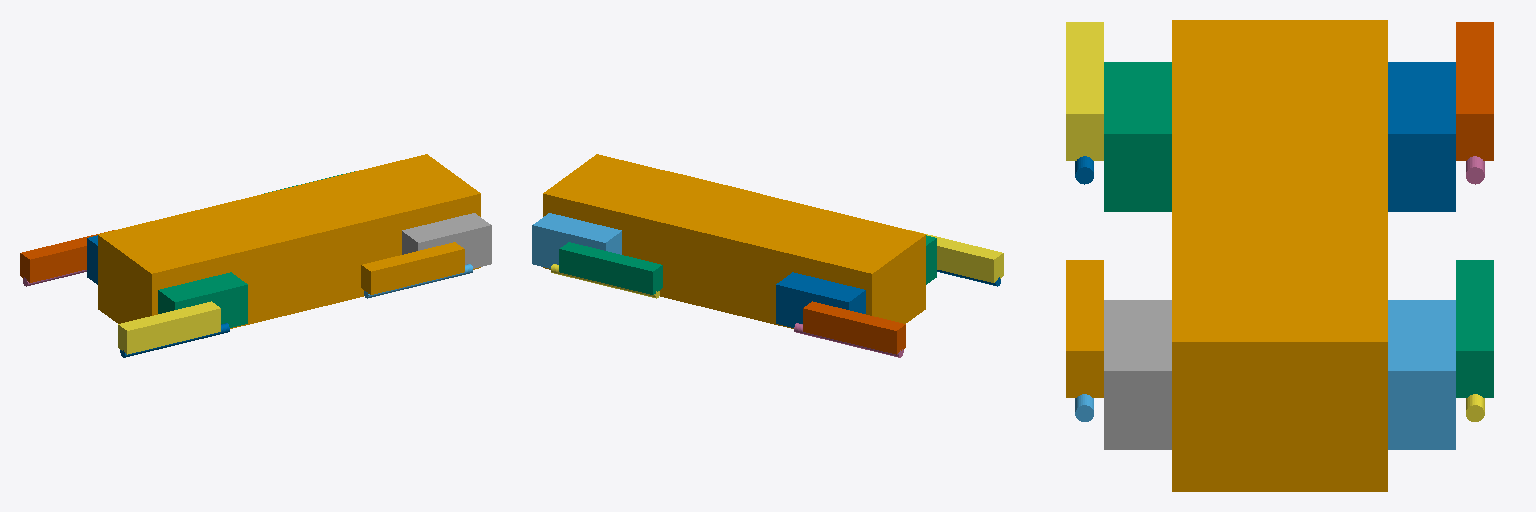
--- Render facts (derived) ---
The picture shows the robot from 3 angles, left to right: view 1: azimuth 30°, elevation 25°; view 2: azimuth 150°, elevation 25°; view 3: azimuth 270°, elevation 25°; orthographic projection.
Model vision60 with 13 links and 12 joints (12 revolute), rooted at body, posed all joints at 0.
Links seen in each view (by area): view 1: body, upper2, upper3, hip2, hip3, upper1; view 2: body, upper0, upper1, hip0, hip1, upper3; view 3: body, hip0, hip1, hip2, hip3, upper1, upper3, upper0, upper2.
Link boxes in pixels (box(x1,y1,x2,y2)): body: box(98, 154, 480, 328); upper2: box(361, 242, 464, 294); upper3: box(118, 301, 220, 354); hip2: box(402, 213, 491, 268); hip3: box(158, 272, 247, 327); upper1: box(20, 230, 113, 282); body: box(543, 154, 925, 328); upper0: box(559, 242, 662, 294); upper1: box(803, 301, 905, 354); hip0: box(532, 213, 621, 268); hip1: box(776, 272, 865, 327); upper3: box(910, 230, 1003, 282); body: box(1172, 20, 1387, 491); hip0: box(1388, 300, 1455, 449); hip1: box(1388, 62, 1455, 211); hip2: box(1104, 300, 1171, 449); hip3: box(1104, 62, 1171, 211); upper1: box(1456, 22, 1493, 160); upper3: box(1066, 22, 1103, 160); upper0: box(1456, 260, 1493, 397); upper2: box(1066, 260, 1103, 397).
Size in the robot's own frame: 1.01 by 0.495 by 0.19 metres.
Geometry: primitives only (box / cylinder / sphere), no mesh files.

The robot description file, URDF, robot "vision60":
<?xml version="1.0" ?>
<!-- =================================================================================== -->
<!-- |    This document was autogenerated by xacro from vision_60.urdf.xacro           | -->
<!-- |    EDITING THIS FILE BY HAND IS NOT RECOMMENDED                                 | -->
<!-- =================================================================================== -->
<!-- 
MIT License (modified)
Copyright (c) 2018 Ghost Robotics
Authors:
Avik De <[email redacted]>
Tom Jacobs <[email redacted]>
Vasileios Vasilopoulos <[email redacted]>
Permission is hereby granted, free of charge, to any person obtaining a copy
of this **file** (the "Software"), to deal
in the Software without restriction, including without limitation the rights
to use, copy, modify, merge, publish, distribute, sublicense, and/or sell
copies of the Software, and to permit persons to whom the Software is
furnished to do so, subject to the following conditions:
The above copyright notice and this permission notice shall be included in all
copies or substantial portions of the Software.
THE SOFTWARE IS PROVIDED "AS IS", WITHOUT WARRANTY OF ANY KIND, EXPRESS OR
IMPLIED, INCLUDING BUT NOT LIMITED TO THE WARRANTIES OF MERCHANTABILITY,
FITNESS FOR A PARTICULAR PURPOSE AND NONINFRINGEMENT. IN NO EVENT SHALL THE
AUTHORS OR COPYRIGHT HOLDERS BE LIABLE FOR ANY CLAIM, DAMAGES OR OTHER
LIABILITY, WHETHER IN AN ACTION OF CONTRACT, TORT OR OTHERWISE, ARISING FROM,
OUT OF OR IN CONNECTION WITH THE SOFTWARE OR THE USE OR OTHER DEALINGS IN THE
SOFTWARE. 
-->
<robot name="vision60">
  <!-- Body -->
  <link name="body">
    <visual>
      <origin rpy="0 0 0" xyz="0 0 0"/>
      <geometry>
        <box size="0.88 0.25 0.19"/>
      </geometry>
    </visual>
    <inertial>
      <mass value="12"/>
      <!-- Uniform box -->
      <inertia ixx="0.0986" ixy="0" ixz="0" iyy="0.8105" iyz="0" izz="0.8369"/>
    </inertial>
    <!-- Just copy geometry for collision -->
    <collision>
      <geometry>
        <box size="0.05 0.25 0.19"/>
      </geometry>
    </collision>
  </link>
  <gazebo reference="body">
    <material>Gazebo/BlackTransparent</material>
  </gazebo>
  <!-- red new legs -->
  <!-- TODO: clean this, it should be part of main leg macro -->
  <!-- Hip motor -->
  <link name="hip0">
    <visual>
      <origin rpy="1.5707963267948966 0 0" xyz="0.0 -0.03900000000000001 0"/>
      <geometry>
        <box size="0.195 0.1 0.17"/>
      </geometry>
    </visual>
    <collision>
      <origin rpy="1.5707963267948966 0 0" xyz="0.0 -0.03900000000000001 0"/>
      <geometry>
        <box size="0.195 0.1 0.17"/>
      </geometry>
    </collision>
    <inertial>
      <mass value="2.75"/>
      <inertia ixx="0.00891458" ixy="0" ixz="0" iyy="0.0100573" iyz="0" izz="0.01533698"/>
    </inertial>
  </link>
  <gazebo reference="hip0">
    <material>Gazebo/Red</material>
  </gazebo>
  <!-- Abduction joint. Joint names are: 8 9 10 11 -->
  <joint name="8" type="revolute">
    <parent link="body"/>
    <child link="hip0"/>
    <axis xyz="1 0 0"/>
    <origin xyz="0.325 0.1575 0"/>
    <limit effort="375" lower="-0.43" upper="0.43" velocity="8.6"/>
    <dynamics damping="0.0" friction="0.0"/>
  </joint>
  <!-- Transmission elements required for Gazebo -->
  <transmission name="transmission_8">
    <type>transmission_interface/SimpleTransmission</type>
    <joint name="8">
      <hardwareInterface>hardware_interface/EffortJointInterface</hardwareInterface>
    </joint>
    <actuator name="motor_8">
      <hardwareInterface>EffortJointInterface</hardwareInterface>
      <mechanicalReduction>1</mechanicalReduction>
    </actuator>
  </transmission>
  <!-- Upper leg -->
  <link name="upper0">
    <visual>
      <origin rpy="0 0 0" xyz="-0.125 0.0 0"/>
      <geometry>
        <box size="0.25 0.044 0.06"/>
      </geometry>
    </visual>
    <collision>
      <origin rpy="0 0 0" xyz="-0.125 0 0"/>
      <geometry>
        <box size="0.25 0.044 0.06"/>
      </geometry>
    </collision>
    <inertial>
      <mass value="0.625"/>
      <inertia ixx="0.0003125" ixy="0" ixz="0" iyy="0.0040625" iyz="0" izz="0.0040625"/>
    </inertial>
  </link>
  <gazebo reference="upper0">
    <material>Gazebo/Blue</material>
  </gazebo>
  <!-- Hip joint. (Motor to upper leg). Joint names are: 0 2 4 6 -->
  <joint name="0" type="revolute">
    <parent link="hip0"/>
    <child link="upper0"/>
    <axis xyz="0 -1 0"/>
    <origin xyz="0 0.068 0"/>
    <!--  rpy="0 -0.3 0" -->
    <limit effort="87.5" lower="-3.141592653589793" upper="3.141592653589793" velocity="30"/>
    <dynamics damping="0.0" friction="0.0"/>
  </joint>
  <!-- Transmission elements required for Gazebo -->
  <transmission name="transmission_0">
    <type>transmission_interface/SimpleTransmission</type>
    <joint name="0">
      <hardwareInterface>hardware_interface/EffortJointInterface</hardwareInterface>
    </joint>
    <actuator name="motor_0">
      <hardwareInterface>EffortJointInterface</hardwareInterface>
      <mechanicalReduction>1</mechanicalReduction>
    </actuator>
  </transmission>
  <!-- Lower leg -->
  <link name="lower0">
    <visual>
      <origin rpy="0 1.5707963267948966 0" xyz="0.14 0 -0.0355"/>
      <geometry>
        <cylinder length="0.28" radius="0.011"/>
      </geometry>
    </visual>
    <collision>
      <origin rpy="0 1.5707963267948966 0" xyz="0.14 0 -0.0355"/>
      <geometry>
        <cylinder length="0.28" radius="0.011"/>
      </geometry>
    </collision>
    <inertial>
      <mass value="0.2"/>
      <inertia ixx="0.00131075" ixy="0" ixz="0" iyy="0.00131075" iyz="0" izz="0.0001"/>
    </inertial>
  </link>
  <gazebo reference="lower0">
    <material>Gazebo/Black</material>
  </gazebo>
  <!-- Knee joint. Joint names are: 1 3 5 7 -->
  <joint name="1" type="revolute">
    <parent link="upper0"/>
    <child link="lower0"/>
    <axis xyz="0 1 0"/>
    <origin xyz="-0.25 0 0"/>
    <!--rpy="0 0.5 0"-->
    <limit effort="87.5" lower="0" upper="3.141592653589793" velocity="30"/>
    <dynamics damping="0.0" friction="0.0"/>
  </joint>
  <!-- Transmission elements required for Gazebo -->
  <transmission name="transmission_1">
    <type>transmission_interface/SimpleTransmission</type>
    <joint name="1">
      <hardwareInterface>hardware_interface/EffortJointInterface</hardwareInterface>
    </joint>
    <actuator name="motor_1">
      <hardwareInterface>EffortJointInterface</hardwareInterface>
      <mechanicalReduction>1</mechanicalReduction>
    </actuator>
  </transmission>
  <!-- Toe 
		<link name="toe${suffix}">
			<visual>
				<origin rpy="0 0 0" xyz="0 0 0"/>
				<geometry>
					<sphere radius="${toeRadius}"/>
				</geometry>
			</visual>
			
			<collision>
				<origin rpy="0 0 0" xyz="0 0 0"/>
				<geometry>
					<sphere radius="${toeRadius}"/>
				</geometry>
			</collision>

			<inertial>
				<mass value="${toeMass}"/>
				<inertia ixx="0.000025"  ixy="0"  ixz="0" iyy="0.000025" iyz="0" izz="0.000025" />
			</inertial>
		</link>
		<gazebo reference="toe${suffix}">
    		<material>Gazebo/DarkGray</material>
			<collision>
				<surface>
					<bounce>
						<restitution_coefficient>0</restitution_coefficient>
						<threshold>1e+06</threshold>
					</bounce>
					<friction>
						<torsional>
							<coefficient>${toeSpinningFriction}</coefficient>
						</torsional>
						<ode>
							<mu>${toeFriction}</mu>
							<mu2>${toeLateralFriction}</mu2>
						</ode>
						<bullet>
							<rolling_friction>${toeSpinningFriction}</rolling_friction>
							<friction2>${toeLateralFriction}</friction2>
						</bullet>
					</friction>
					<contact>
						<bullet>
							<kp>${toeStiffness}</kp>
							<kd>${toeDamping}</kd>
						</bullet>
						<ode>
							<kp>${toeStiffness}</kp>
							<kd>${toeDamping}</kd>
						</ode>
					</contact>
				</surface>
			</collision>
  		</gazebo>
		
		<joint name="${suffix}" type="fixed">
			<parent link="lower${suffix}"/>
			<child link="toe${suffix}"/>
			<origin xyz="${lowerLegLength} 0 -${lowerLegAttachLinkLength + toeOffset}"/>
			<dynamics damping="0.0" friction="0.0"/>
		</joint>
-->
  <!-- Hip motor -->
  <link name="hip1">
    <visual>
      <origin rpy="1.5707963267948966 0 0" xyz="0.0 -0.03900000000000001 0"/>
      <geometry>
        <box size="0.195 0.1 0.17"/>
      </geometry>
    </visual>
    <collision>
      <origin rpy="1.5707963267948966 0 0" xyz="0.0 -0.03900000000000001 0"/>
      <geometry>
        <box size="0.195 0.1 0.17"/>
      </geometry>
    </collision>
    <inertial>
      <mass value="2.75"/>
      <inertia ixx="0.00891458" ixy="0" ixz="0" iyy="0.0100573" iyz="0" izz="0.01533698"/>
    </inertial>
  </link>
  <gazebo reference="hip1">
    <material>Gazebo/Purple</material>
  </gazebo>
  <!-- Abduction joint. Joint names are: 8 9 10 11 -->
  <joint name="9" type="revolute">
    <parent link="body"/>
    <child link="hip1"/>
    <axis xyz="1 0 0"/>
    <origin xyz="-0.325 0.1575 0"/>
    <limit effort="375" lower="-0.43" upper="0.43" velocity="8.6"/>
    <dynamics damping="0.0" friction="0.0"/>
  </joint>
  <!-- Transmission elements required for Gazebo -->
  <transmission name="transmission_9">
    <type>transmission_interface/SimpleTransmission</type>
    <joint name="9">
      <hardwareInterface>hardware_interface/EffortJointInterface</hardwareInterface>
    </joint>
    <actuator name="motor_9">
      <hardwareInterface>EffortJointInterface</hardwareInterface>
      <mechanicalReduction>1</mechanicalReduction>
    </actuator>
  </transmission>
  <!-- Upper leg -->
  <link name="upper1">
    <visual>
      <origin rpy="0 0 0" xyz="-0.125 0.0 0"/>
      <geometry>
        <box size="0.25 0.044 0.06"/>
      </geometry>
    </visual>
    <collision>
      <origin rpy="0 0 0" xyz="-0.125 0 0"/>
      <geometry>
        <box size="0.25 0.044 0.06"/>
      </geometry>
    </collision>
    <inertial>
      <mass value="0.625"/>
      <inertia ixx="0.0003125" ixy="0" ixz="0" iyy="0.0040625" iyz="0" izz="0.0040625"/>
    </inertial>
  </link>
  <gazebo reference="upper1">
    <material>Gazebo/Blue</material>
  </gazebo>
  <!-- Hip joint. (Motor to upper leg). Joint names are: 0 2 4 6 -->
  <joint name="2" type="revolute">
    <parent link="hip1"/>
    <child link="upper1"/>
    <axis xyz="0 -1 0"/>
    <origin xyz="0 0.068 0"/>
    <!--  rpy="0 -0.3 0" -->
    <limit effort="87.5" lower="-3.141592653589793" upper="3.141592653589793" velocity="30"/>
    <dynamics damping="0.0" friction="0.0"/>
  </joint>
  <!-- Transmission elements required for Gazebo -->
  <transmission name="transmission_2">
    <type>transmission_interface/SimpleTransmission</type>
    <joint name="2">
      <hardwareInterface>hardware_interface/EffortJointInterface</hardwareInterface>
    </joint>
    <actuator name="motor_2">
      <hardwareInterface>EffortJointInterface</hardwareInterface>
      <mechanicalReduction>1</mechanicalReduction>
    </actuator>
  </transmission>
  <!-- Lower leg -->
  <link name="lower1">
    <visual>
      <origin rpy="0 1.5707963267948966 0" xyz="0.14 0 -0.0355"/>
      <geometry>
        <cylinder length="0.28" radius="0.011"/>
      </geometry>
    </visual>
    <collision>
      <origin rpy="0 1.5707963267948966 0" xyz="0.14 0 -0.0355"/>
      <geometry>
        <cylinder length="0.28" radius="0.011"/>
      </geometry>
    </collision>
    <inertial>
      <mass value="0.2"/>
      <inertia ixx="0.00131075" ixy="0" ixz="0" iyy="0.00131075" iyz="0" izz="0.0001"/>
    </inertial>
  </link>
  <gazebo reference="lower1">
    <material>Gazebo/Black</material>
  </gazebo>
  <!-- Knee joint. Joint names are: 1 3 5 7 -->
  <joint name="3" type="revolute">
    <parent link="upper1"/>
    <child link="lower1"/>
    <axis xyz="0 1 0"/>
    <origin xyz="-0.25 0 0"/>
    <!--rpy="0 0.5 0"-->
    <limit effort="87.5" lower="0" upper="3.141592653589793" velocity="30"/>
    <dynamics damping="0.0" friction="0.0"/>
  </joint>
  <!-- Transmission elements required for Gazebo -->
  <transmission name="transmission_3">
    <type>transmission_interface/SimpleTransmission</type>
    <joint name="3">
      <hardwareInterface>hardware_interface/EffortJointInterface</hardwareInterface>
    </joint>
    <actuator name="motor_3">
      <hardwareInterface>EffortJointInterface</hardwareInterface>
      <mechanicalReduction>1</mechanicalReduction>
    </actuator>
  </transmission>
  <!-- Toe 
		<link name="toe${suffix}">
			<visual>
				<origin rpy="0 0 0" xyz="0 0 0"/>
				<geometry>
					<sphere radius="${toeRadius}"/>
				</geometry>
			</visual>
			
			<collision>
				<origin rpy="0 0 0" xyz="0 0 0"/>
				<geometry>
					<sphere radius="${toeRadius}"/>
				</geometry>
			</collision>

			<inertial>
				<mass value="${toeMass}"/>
				<inertia ixx="0.000025"  ixy="0"  ixz="0" iyy="0.000025" iyz="0" izz="0.000025" />
			</inertial>
		</link>
		<gazebo reference="toe${suffix}">
    		<material>Gazebo/DarkGray</material>
			<collision>
				<surface>
					<bounce>
						<restitution_coefficient>0</restitution_coefficient>
						<threshold>1e+06</threshold>
					</bounce>
					<friction>
						<torsional>
							<coefficient>${toeSpinningFriction}</coefficient>
						</torsional>
						<ode>
							<mu>${toeFriction}</mu>
							<mu2>${toeLateralFriction}</mu2>
						</ode>
						<bullet>
							<rolling_friction>${toeSpinningFriction}</rolling_friction>
							<friction2>${toeLateralFriction}</friction2>
						</bullet>
					</friction>
					<contact>
						<bullet>
							<kp>${toeStiffness}</kp>
							<kd>${toeDamping}</kd>
						</bullet>
						<ode>
							<kp>${toeStiffness}</kp>
							<kd>${toeDamping}</kd>
						</ode>
					</contact>
				</surface>
			</collision>
  		</gazebo>
		
		<joint name="jtoe${suffix}" type="fixed">
			<parent link="lower${suffix}"/>
			<child link="toe${suffix}"/>
			<origin xyz="${lowerLegLength} 0 -${lowerLegAttachLinkLength + toeOffset}"/>
			<dynamics damping="0.0" friction="0.0"/>
		</joint>
-->
  <!-- Hip motor -->
  <link name="hip2">
    <visual>
      <origin rpy="1.5707963267948966 0 0" xyz="0.0 0.03900000000000001 0"/>
      <geometry>
        <box size="0.195 0.1 0.17"/>
      </geometry>
    </visual>
    <collision>
      <origin rpy="1.5707963267948966 0 0" xyz="0.0 0.03900000000000001 0"/>
      <geometry>
        <box size="0.195 0.1 0.17"/>
      </geometry>
    </collision>
    <inertial>
      <mass value="2.75"/>
      <inertia ixx="0.00891458" ixy="0" ixz="0" iyy="0.0100573" iyz="0" izz="0.01533698"/>
    </inertial>
  </link>
  <gazebo reference="hip2">
    <material>Gazebo/Red</material>
  </gazebo>
  <!-- Abduction joint. Joint names are: 8 9 10 11 -->
  <joint name="10" type="revolute">
    <parent link="body"/>
    <child link="hip2"/>
    <axis xyz="1 0 0"/>
    <origin xyz="0.325 -0.1575 0"/>
    <limit effort="375" lower="-0.43" upper="0.43" velocity="8.6"/>
    <dynamics damping="0.0" friction="0.0"/>
  </joint>
  <!-- Transmission elements required for Gazebo -->
  <transmission name="transmission_10">
    <type>transmission_interface/SimpleTransmission</type>
    <joint name="10">
      <hardwareInterface>hardware_interface/EffortJointInterface</hardwareInterface>
    </joint>
    <actuator name="motor_10">
      <hardwareInterface>EffortJointInterface</hardwareInterface>
      <mechanicalReduction>1</mechanicalReduction>
    </actuator>
  </transmission>
  <!-- Upper leg -->
  <link name="upper2">
    <visual>
      <origin rpy="0 0 0" xyz="-0.125 -0.0 0"/>
      <geometry>
        <box size="0.25 0.044 0.06"/>
      </geometry>
    </visual>
    <collision>
      <origin rpy="0 0 0" xyz="-0.125 0 0"/>
      <geometry>
        <box size="0.25 0.044 0.06"/>
      </geometry>
    </collision>
    <inertial>
      <mass value="0.625"/>
      <inertia ixx="0.0003125" ixy="0" ixz="0" iyy="0.0040625" iyz="0" izz="0.0040625"/>
    </inertial>
  </link>
  <gazebo reference="upper2">
    <material>Gazebo/Blue</material>
  </gazebo>
  <!-- Hip joint. (Motor to upper leg). Joint names are: 0 2 4 6 -->
  <joint name="4" type="revolute">
    <parent link="hip2"/>
    <child link="upper2"/>
    <axis xyz="0 -1 0"/>
    <origin xyz="0 -0.068 0"/>
    <!--  rpy="0 -0.3 0" -->
    <limit effort="87.5" lower="-3.141592653589793" upper="3.141592653589793" velocity="30"/>
    <dynamics damping="0.0" friction="0.0"/>
  </joint>
  <!-- Transmission elements required for Gazebo -->
  <transmission name="transmission_4">
    <type>transmission_interface/SimpleTransmission</type>
    <joint name="4">
      <hardwareInterface>hardware_interface/EffortJointInterface</hardwareInterface>
    </joint>
    <actuator name="motor_4">
      <hardwareInterface>EffortJointInterface</hardwareInterface>
      <mechanicalReduction>1</mechanicalReduction>
    </actuator>
  </transmission>
  <!-- Lower leg -->
  <link name="lower2">
    <visual>
      <origin rpy="0 1.5707963267948966 0" xyz="0.14 0 -0.0355"/>
      <geometry>
        <cylinder length="0.28" radius="0.011"/>
      </geometry>
    </visual>
    <collision>
      <origin rpy="0 1.5707963267948966 0" xyz="0.14 0 -0.0355"/>
      <geometry>
        <cylinder length="0.28" radius="0.011"/>
      </geometry>
    </collision>
    <inertial>
      <mass value="0.2"/>
      <inertia ixx="0.00131075" ixy="0" ixz="0" iyy="0.00131075" iyz="0" izz="0.0001"/>
    </inertial>
  </link>
  <gazebo reference="lower2">
    <material>Gazebo/Black</material>
  </gazebo>
  <!-- Knee joint. Joint names are: 1 3 5 7 -->
  <joint name="5" type="revolute">
    <parent link="upper2"/>
    <child link="lower2"/>
    <axis xyz="0 1 0"/>
    <origin xyz="-0.25 0 0"/>
    <!--rpy="0 0.5 0"-->
    <limit effort="87.5" lower="0" upper="3.141592653589793" velocity="30"/>
    <dynamics damping="0.0" friction="0.0"/>
  </joint>
  <!-- Transmission elements required for Gazebo -->
  <transmission name="transmission_5">
    <type>transmission_interface/SimpleTransmission</type>
    <joint name="5">
      <hardwareInterface>hardware_interface/EffortJointInterface</hardwareInterface>
    </joint>
    <actuator name="motor_5">
      <hardwareInterface>EffortJointInterface</hardwareInterface>
      <mechanicalReduction>1</mechanicalReduction>
    </actuator>
  </transmission>
  <!-- Toe 
		<link name="toe${suffix}">
			<visual>
				<origin rpy="0 0 0" xyz="0 0 0"/>
				<geometry>
					<sphere radius="${toeRadius}"/>
				</geometry>
			</visual>
			
			<collision>
				<origin rpy="0 0 0" xyz="0 0 0"/>
				<geometry>
					<sphere radius="${toeRadius}"/>
				</geometry>
			</collision>

			<inertial>
				<mass value="${toeMass}"/>
				<inertia ixx="0.000025"  ixy="0"  ixz="0" iyy="0.000025" iyz="0" izz="0.000025" />
			</inertial>
		</link>
		<gazebo reference="toe${suffix}">
    		<material>Gazebo/DarkGray</material>
			<collision>
				<surface>
					<bounce>
						<restitution_coefficient>0</restitution_coefficient>
						<threshold>1e+06</threshold>
					</bounce>
					<friction>
						<torsional>
							<coefficient>${toeSpinningFriction}</coefficient>
						</torsional>
						<ode>
							<mu>${toeFriction}</mu>
							<mu2>${toeLateralFriction}</mu2>
						</ode>
						<bullet>
							<rolling_friction>${toeSpinningFriction}</rolling_friction>
							<friction2>${toeLateralFriction}</friction2>
						</bullet>
					</friction>
					<contact>
						<bullet>
							<kp>${toeStiffness}</kp>
							<kd>${toeDamping}</kd>
						</bullet>
						<ode>
							<kp>${toeStiffness}</kp>
							<kd>${toeDamping}</kd>
						</ode>
					</contact>
				</surface>
			</collision>
  		</gazebo>
		
		<joint name="${suffix}" type="fixed">
			<parent link="lower${suffix}"/>
			<child link="toe${suffix}"/>
			<origin xyz="${lowerLegLength} 0 -${lowerLegAttachLinkLength + toeOffset}"/>
			<dynamics damping="0.0" friction="0.0"/>
		</joint>
-->
  <!-- Hip motor -->
  <link name="hip3">
    <visual>
      <origin rpy="1.5707963267948966 0 0" xyz="0.0 0.03900000000000001 0"/>
      <geometry>
        <box size="0.195 0.1 0.17"/>
      </geometry>
    </visual>
    <collision>
      <origin rpy="1.5707963267948966 0 0" xyz="0.0 0.03900000000000001 0"/>
      <geometry>
        <box size="0.195 0.1 0.17"/>
      </geometry>
    </collision>
    <inertial>
      <mass value="2.75"/>
      <inertia ixx="0.00891458" ixy="0" ixz="0" iyy="0.0100573" iyz="0" izz="0.01533698"/>
    </inertial>
  </link>
  <gazebo reference="hip3">
    <material>Gazebo/Purple</material>
  </gazebo>
  <!-- Abduction joint. Joint names are: 8 9 10 11 -->
  <joint name="11" type="revolute">
    <parent link="body"/>
    <child link="hip3"/>
    <axis xyz="1 0 0"/>
    <origin xyz="-0.325 -0.1575 0"/>
    <limit effort="375" lower="-0.43" upper="0.43" velocity="8.6"/>
    <dynamics damping="0.0" friction="0.0"/>
  </joint>
  <!-- Transmission elements required for Gazebo -->
  <transmission name="transmission_11">
    <type>transmission_interface/SimpleTransmission</type>
    <joint name="11">
      <hardwareInterface>hardware_interface/EffortJointInterface</hardwareInterface>
    </joint>
    <actuator name="motor_11">
      <hardwareInterface>EffortJointInterface</hardwareInterface>
      <mechanicalReduction>1</mechanicalReduction>
    </actuator>
  </transmission>
  <!-- Upper leg -->
  <link name="upper3">
    <visual>
      <origin rpy="0 0 0" xyz="-0.125 -0.0 0"/>
      <geometry>
        <box size="0.25 0.044 0.06"/>
      </geometry>
    </visual>
    <collision>
      <origin rpy="0 0 0" xyz="-0.125 0 0"/>
      <geometry>
        <box size="0.25 0.044 0.06"/>
      </geometry>
    </collision>
    <inertial>
      <mass value="0.625"/>
      <inertia ixx="0.0003125" ixy="0" ixz="0" iyy="0.0040625" iyz="0" izz="0.0040625"/>
    </inertial>
  </link>
  <gazebo reference="upper3">
    <material>Gazebo/Blue</material>
  </gazebo>
  <!-- Hip joint. (Motor to upper leg). Joint names are: 0 2 4 6 -->
  <joint name="6" type="revolute">
    <parent link="hip3"/>
    <child link="upper3"/>
    <axis xyz="0 -1 0"/>
    <origin xyz="0 -0.068 0"/>
    <!--  rpy="0 -0.3 0" -->
    <limit effort="87.5" lower="-3.141592653589793" upper="3.141592653589793" velocity="30"/>
    <dynamics damping="0.0" friction="0.0"/>
  </joint>
  <!-- Transmission elements required for Gazebo -->
  <transmission name="transmission_6">
    <type>transmission_interface/SimpleTransmission</type>
    <joint name="6">
      <hardwareInterface>hardware_interface/EffortJointInterface</hardwareInterface>
    </joint>
    <actuator name="motor_6">
      <hardwareInterface>EffortJointInterface</hardwareInterface>
      <mechanicalReduction>1</mechanicalReduction>
    </actuator>
  </transmission>
  <!-- Lower leg -->
  <link name="lower3">
    <visual>
      <origin rpy="0 1.5707963267948966 0" xyz="0.14 0 -0.0355"/>
      <geometry>
        <cylinder length="0.28" radius="0.011"/>
      </geometry>
    </visual>
    <collision>
      <origin rpy="0 1.5707963267948966 0" xyz="0.14 0 -0.0355"/>
      <geometry>
        <cylinder length="0.28" radius="0.011"/>
      </geometry>
    </collision>
    <inertial>
      <mass value="0.2"/>
      <inertia ixx="0.00131075" ixy="0" ixz="0" iyy="0.00131075" iyz="0" izz="0.0001"/>
    </inertial>
  </link>
  <gazebo reference="lower3">
    <material>Gazebo/Black</material>
  </gazebo>
  <!-- Knee joint. Joint names are: 1 3 5 7 -->
  <joint name="7" type="revolute">
    <parent link="upper3"/>
    <child link="lower3"/>
    <axis xyz="0 1 0"/>
    <origin xyz="-0.25 0 0"/>
    <!--rpy="0 0.5 0"-->
    <limit effort="87.5" lower="0" upper="3.141592653589793" velocity="30"/>
    <dynamics damping="0.0" friction="0.0"/>
  </joint>
  <!-- Transmission elements required for Gazebo -->
  <transmission name="transmission_7">
    <type>transmission_interface/SimpleTransmission</type>
    <joint name="7">
      <hardwareInterface>hardware_interface/EffortJointInterface</hardwareInterface>
    </joint>
    <actuator name="motor_7">
      <hardwareInterface>EffortJointInterface</hardwareInterface>
      <mechanicalReduction>1</mechanicalReduction>
    </actuator>
  </transmission>
  <!-- Toe 
		<link name="toe${suffix}">
			<visual>
				<origin rpy="0 0 0" xyz="0 0 0"/>
				<geometry>
					<sphere radius="${toeRadius}"/>
				</geometry>
			</visual>
			
			<collision>
				<origin rpy="0 0 0" xyz="0 0 0"/>
				<geometry>
					<sphere radius="${toeRadius}"/>
				</geometry>
			</collision>

			<inertial>
				<mass value="${toeMass}"/>
				<inertia ixx="0.000025"  ixy="0"  ixz="0" iyy="0.000025" iyz="0" izz="0.000025" />
			</inertial>
		</link>
		<gazebo reference="toe${suffix}">
    		<material>Gazebo/DarkGray</material>
			<collision>
				<surface>
					<bounce>
						<restitution_coefficient>0</restitution_coefficient>
						<threshold>1e+06</threshold>
					</bounce>
					<friction>
						<torsional>
							<coefficient>${toeSpinningFriction}</coefficient>
						</torsional>
						<ode>
							<mu>${toeFriction}</mu>
							<mu2>${toeLateralFriction}</mu2>
						</ode>
						<bullet>
							<rolling_friction>${toeSpinningFriction}</rolling_friction>
							<friction2>${toeLateralFriction}</friction2>
						</bullet>
					</friction>
					<contact>
						<bullet>
							<kp>${toeStiffness}</kp>
							<kd>${toeDamping}</kd>
						</bullet>
						<ode>
							<kp>${toeStiffness}</kp>
							<kd>${toeDamping}</kd>
						</ode>
					</contact>
				</surface>
			</collision>
  		</gazebo>
		
		<joint name="jtoe${suffix}" type="fixed">
			<parent link="lower${suffix}"/>
			<child link="toe${suffix}"/>
			<origin xyz="${lowerLegLength} 0 -${lowerLegAttachLinkLength + toeOffset}"/>
			<dynamics damping="0.0" friction="0.0"/>
		</joint>
-->
  <!-- Add ros_control plugin -->
  <gazebo>
    <plugin filename="libgazebo_ros_control.so" name="gazebo_ros_control">
      <robotNamespace>/vision60</robotNamespace>
    </plugin>
  </gazebo>
</robot>
